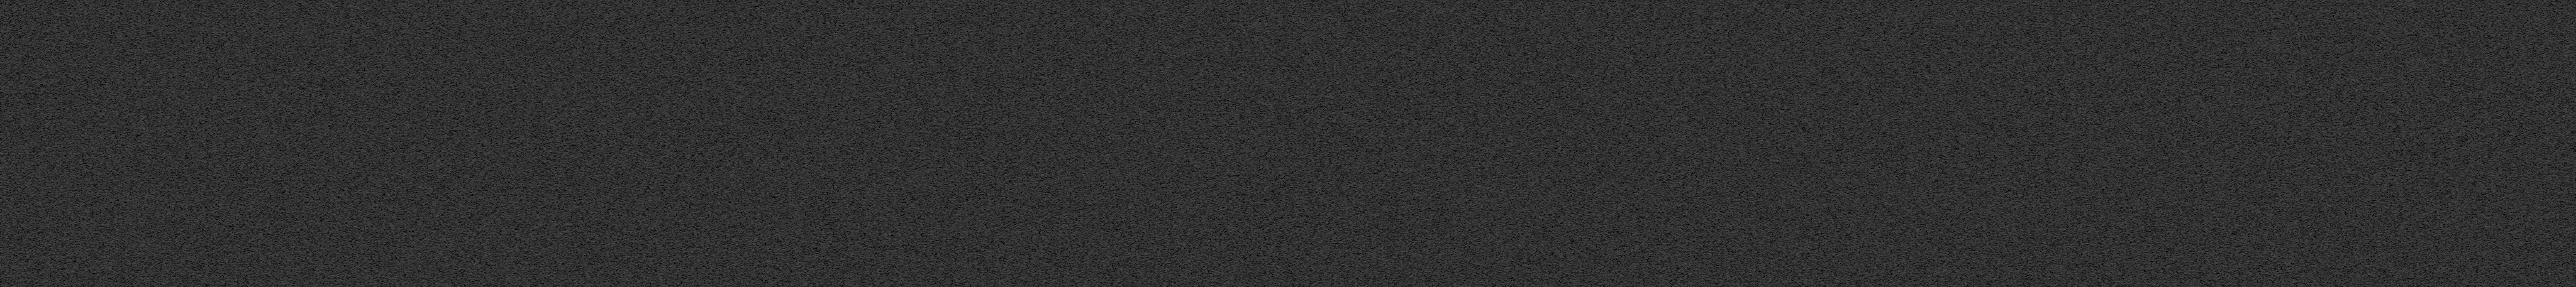wv_am: (1324, 0, 1327, 287), (2338, 80, 2341, 287), (2338, 0, 2341, 79)
wv_lsb: (1607, 48, 1612, 85), (1607, 93, 1610, 131), (1607, 143, 1610, 177), (1556, 177, 1559, 192), (1607, 177, 1610, 187), (1608, 256, 1610, 274), (1608, 235, 1610, 248), (1607, 221, 1610, 228), (1608, 274, 1610, 284), (1607, 87, 1610, 92), (1608, 30, 1610, 39), (1554, 238, 1557, 243), (1556, 251, 1557, 259), (1556, 166, 1557, 174), (1608, 213, 1610, 220), (1608, 39, 1610, 46), (1608, 5, 1610, 11), (1556, 271, 1557, 277), (1556, 246, 1559, 249), (1556, 161, 1559, 164), (1556, 156, 1559, 159), (1556, 148, 1559, 151), (1556, 138, 1559, 141), (1556, 133, 1559, 136), (1556, 123, 1559, 126), (1556, 115, 1559, 118), (1556, 110, 1559, 113), (1556, 105, 1559, 108), (1556, 100, 1559, 103), (1556, 97, 1559, 100), (1556, 82, 1559, 85), (1556, 77, 1559, 80), (1556, 72, 1559, 75), (1556, 67, 1559, 71), (1556, 64, 1559, 67), (1556, 59, 1559, 62), (1556, 54, 1559, 57), (1556, 49, 1559, 52), (1556, 44, 1559, 48), (1608, 251, 1610, 256), (1608, 25, 1610, 30), (1608, 284, 1610, 287), (1608, 248, 1610, 251), (1608, 231, 1610, 235), (1608, 194, 1610, 197), (1608, 134, 1610, 138), (1608, 131, 1610, 134), (1608, 20, 1610, 23), (1556, 279, 1557, 282), (1556, 267, 1557, 271), (1556, 264, 1557, 267), (1556, 233, 1557, 236), (1556, 225, 1557, 228), (1556, 220, 1557, 223), (1556, 216, 1557, 220), (1556, 213, 1557, 216), (1556, 207, 1557, 210), (1556, 202, 1557, 205), (1556, 153, 1559, 154), (1556, 143, 1559, 144), (1556, 130, 1559, 131), (1556, 120, 1559, 121), (1556, 92, 1559, 93), (1556, 87, 1559, 89), (1556, 41, 1559, 43), (1608, 230, 1610, 231), (1608, 3, 1610, 5), (1556, 285, 1557, 287), (1556, 282, 1557, 284), (1556, 261, 1557, 262), (1556, 244, 1557, 246), (1556, 210, 1557, 212), (1556, 200, 1557, 202), (1556, 197, 1557, 198), (1556, 194, 1557, 195), (1556, 175, 1557, 177)
wv_usb: (966, 169, 969, 276), (966, 34, 969, 89), (966, 89, 969, 130), (966, 276, 969, 287), (966, 157, 969, 161), (966, 143, 969, 146), (966, 138, 969, 141), (966, 134, 969, 138), (966, 131, 969, 133), (966, 161, 968, 164), (966, 151, 969, 153), (966, 148, 969, 149), (966, 154, 968, 156)
wv_wbfm: (2257, 0, 2311, 287)
